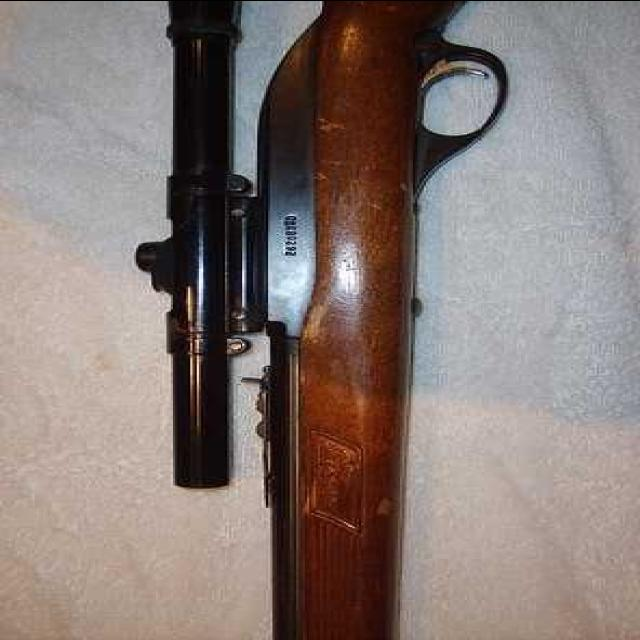heavyweapon: (131, 1, 572, 640)
